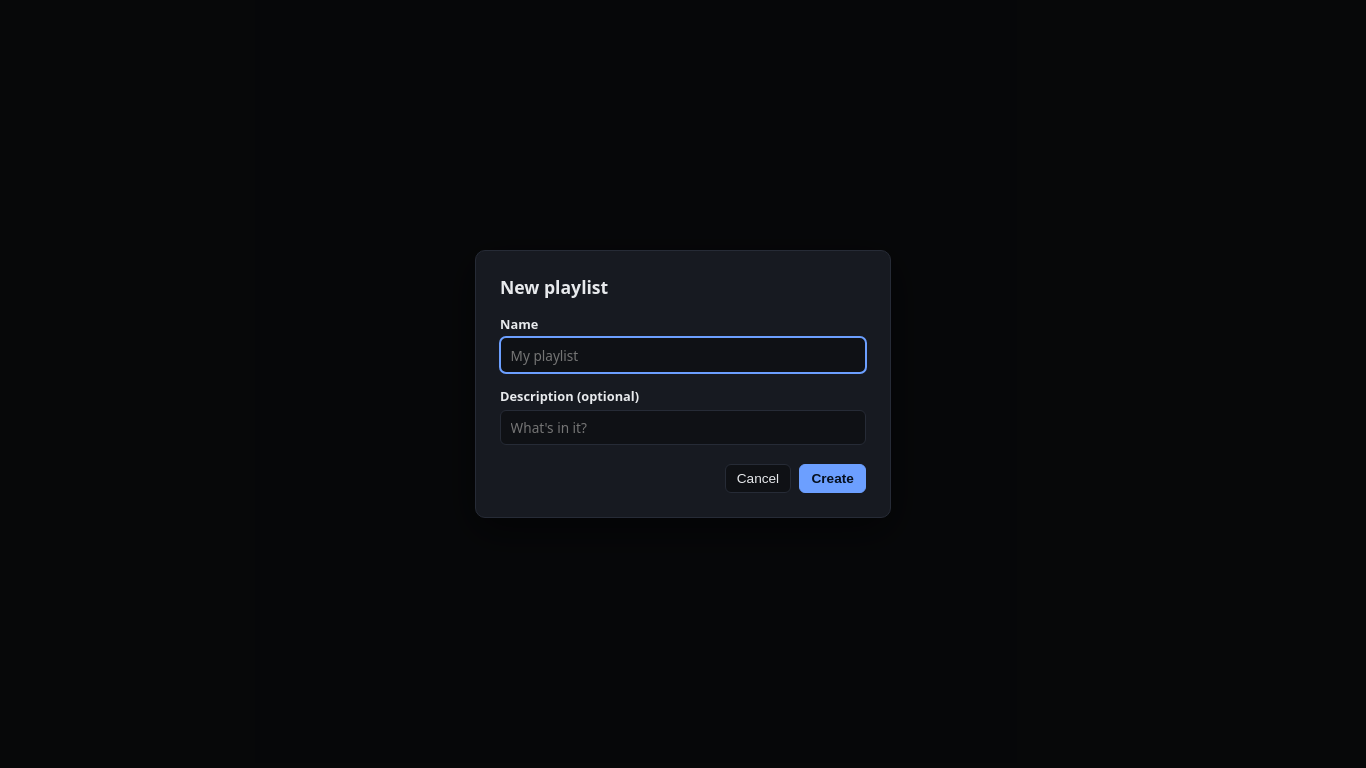
Test: CreatePlaylistDialog › keeps the dialog open and shows the error when creation fails
Type "Mix" into the field labelled "Name". click: (683,355)
box: 500,337 -> 866,373
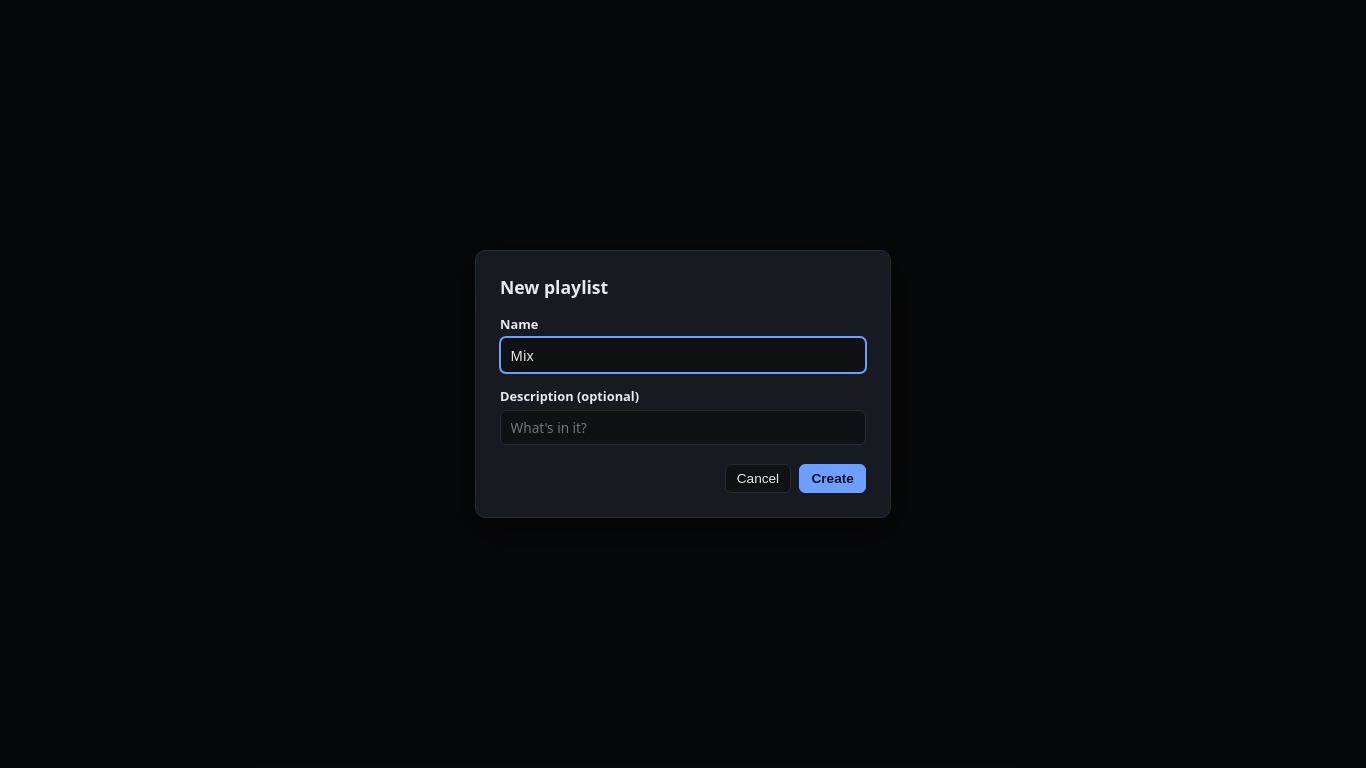
Click the button "Create". click: (833,479)
box: 799,464 -> 866,494
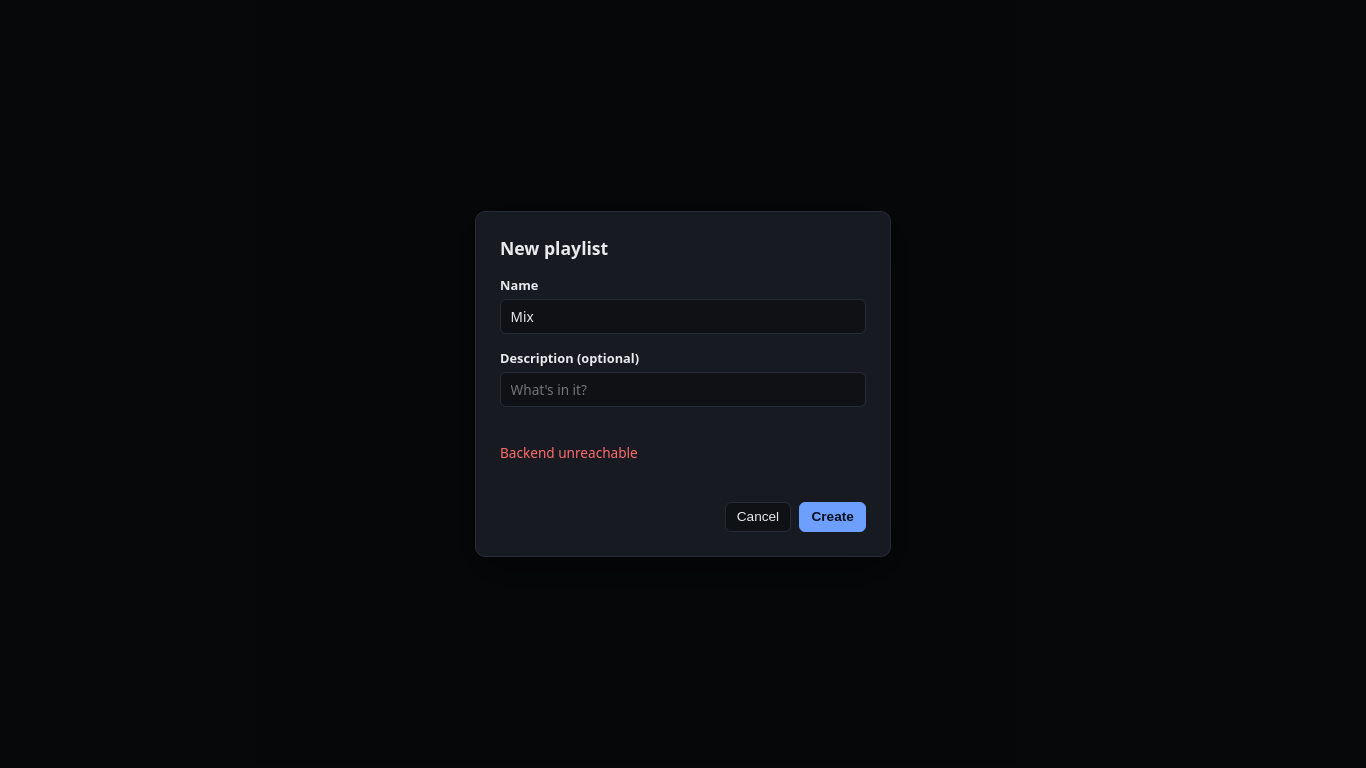
Result: the message reads "Backend unreachable" at 500,443 -> 638,462
